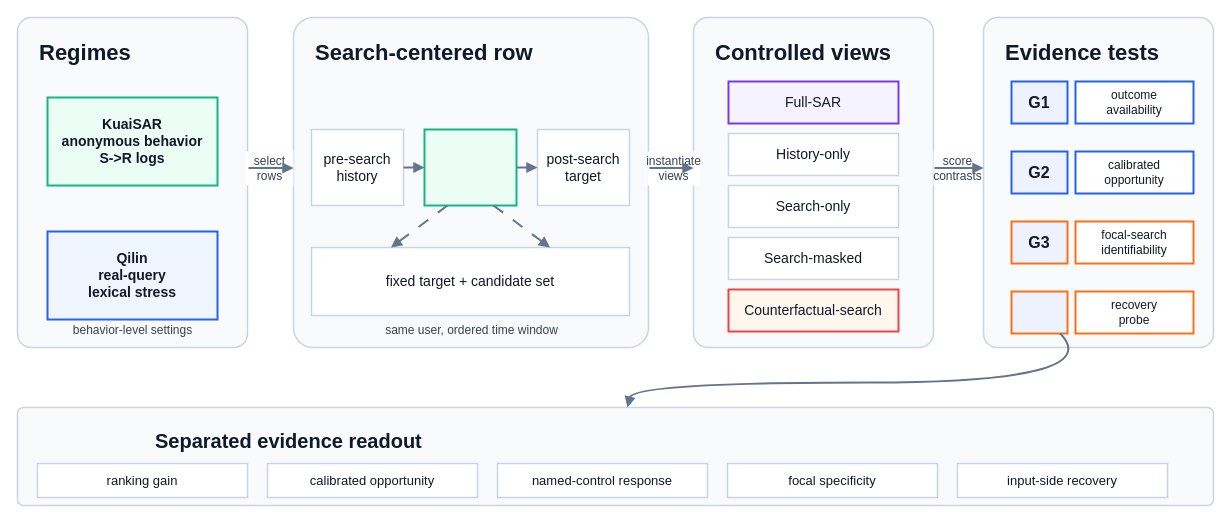
Image size: 1232x524. Some labels were removed from this diagram. The box of each missing label's shape, as (x1, y1, x2, y2) in pixels:
focal search: (423, 128, 517, 206)
G4: (1010, 290, 1068, 334)
